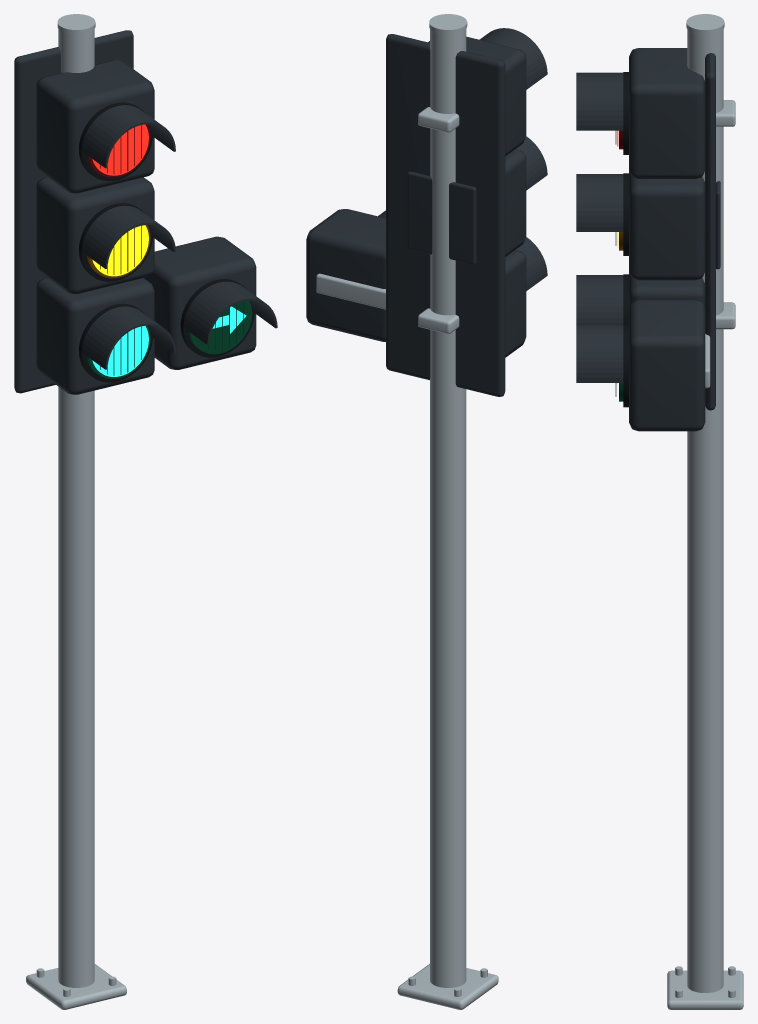
File: DS_Signal_VehicleArrow.glb
3 views of the same model, side by side, from view 1: azimuth 30°, elevation 25°; view 2: azimuth 150°, elevation 25°; view 3: azimuth 270°, elevation 25° (orthographic).
Parts seen in each view (by area): view 1: Post.013, Backplate.001, Module_Red.001, Module_Amber.001, Module_Green.001, Module_Green.002, SunVisor.003, SunVisor.005, SunVisor.006, SunVisor.004, BasePlate.013, Lamp_Amber_Lit_Amber.001 (+8 smaller); view 2: Post.013, Backplate.001, Module_Green.002, ServiceDoor.001, Module_Red.001, BasePlate.013, Module_Amber.001, Module_Green.001, SunVisor.003, SideBracket, SunVisor.004, SunVisor.005 (+3 smaller); view 3: Post.013, Module_Green.002, Module_Red.001, Module_Amber.001, Backplate.001, SunVisor.003, SunVisor.004, SunVisor.006, SunVisor.005, BasePlate.013, Module_Green.001, PostCap.013 (+6 smaller).
Boxes of the visible parts, x1,y1,x2,y2 form: Post.013: [58, 29, 94, 987]; Backplate.001: [14, 30, 133, 393]; Module_Red.001: [36, 60, 154, 193]; Module_Amber.001: [36, 177, 154, 293]; Module_Green.001: [36, 278, 154, 394]; Module_Green.002: [144, 236, 256, 369]; SunVisor.003: [82, 105, 175, 168]; SunVisor.005: [82, 306, 175, 369]; SunVisor.006: [184, 281, 277, 344]; SunVisor.004: [82, 205, 175, 268]; BasePlate.013: [26, 964, 126, 1009]; Lamp_Amber_Lit_Amber.001: [92, 225, 148, 276]; Post.013: [430, 29, 466, 987]; Backplate.001: [386, 34, 505, 396]; Module_Green.002: [306, 209, 385, 341]; ServiceDoor.001: [407, 171, 476, 264]; Module_Red.001: [428, 36, 526, 156]; BasePlate.013: [397, 964, 498, 1009]; Module_Amber.001: [505, 149, 526, 256]; Module_Green.001: [505, 250, 526, 357]; SunVisor.003: [479, 28, 547, 89]; SideBracket: [316, 273, 385, 309]; SunVisor.004: [515, 136, 547, 190]; SunVisor.005: [515, 237, 547, 290]; Post.013: [687, 29, 723, 992]; Module_Green.002: [629, 300, 705, 431]; Module_Red.001: [629, 48, 704, 178]; Module_Amber.001: [629, 171, 704, 280]; Backplate.001: [705, 53, 715, 410]; SunVisor.003: [576, 72, 623, 130]; SunVisor.004: [576, 174, 623, 231]; SunVisor.006: [576, 325, 623, 382]; SunVisor.005: [576, 275, 623, 324]; BasePlate.013: [667, 970, 743, 1009]; Module_Green.001: [629, 272, 704, 308]; PostCap.013: [686, 14, 724, 34].
Bounding box in the file's own units: 0.745 × 3.37 × 0.525.
